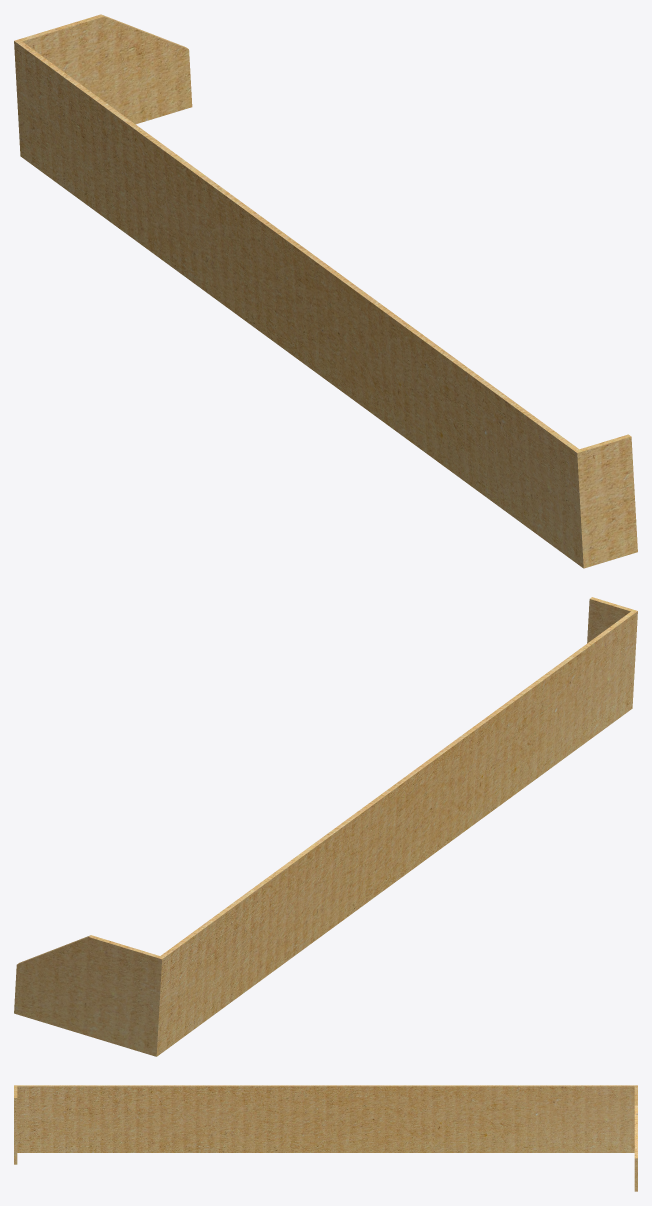
The model's file is original-3.obj.
3 renders of one model, top to bottom at view 1: azimuth 30°, elevation 25°; view 2: azimuth 150°, elevation 25°; view 3: azimuth 270°, elevation 25°, orthographic. The views are drawn at different scales.
Visible parts, largest first — view 1: group_2/ID28#ID28; view 2: group_2/ID28#ID28; view 3: group_2/ID28#ID28.
Boxes of the visible parts, left/top/right/bottom form: group_2/ID28#ID28: left=14, top=14, right=637, bottom=568; group_2/ID28#ID28: left=14, top=597, right=637, bottom=1056; group_2/ID28#ID28: left=14, top=1085, right=637, bottom=1191.
Size of the model in its own units: 0.2042 by 0.1362 by 1.14.
